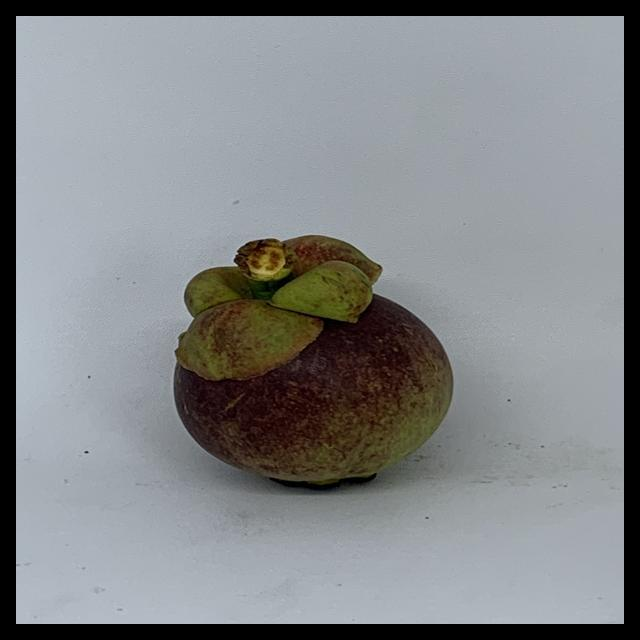mangosteen: (163, 230, 477, 489)
